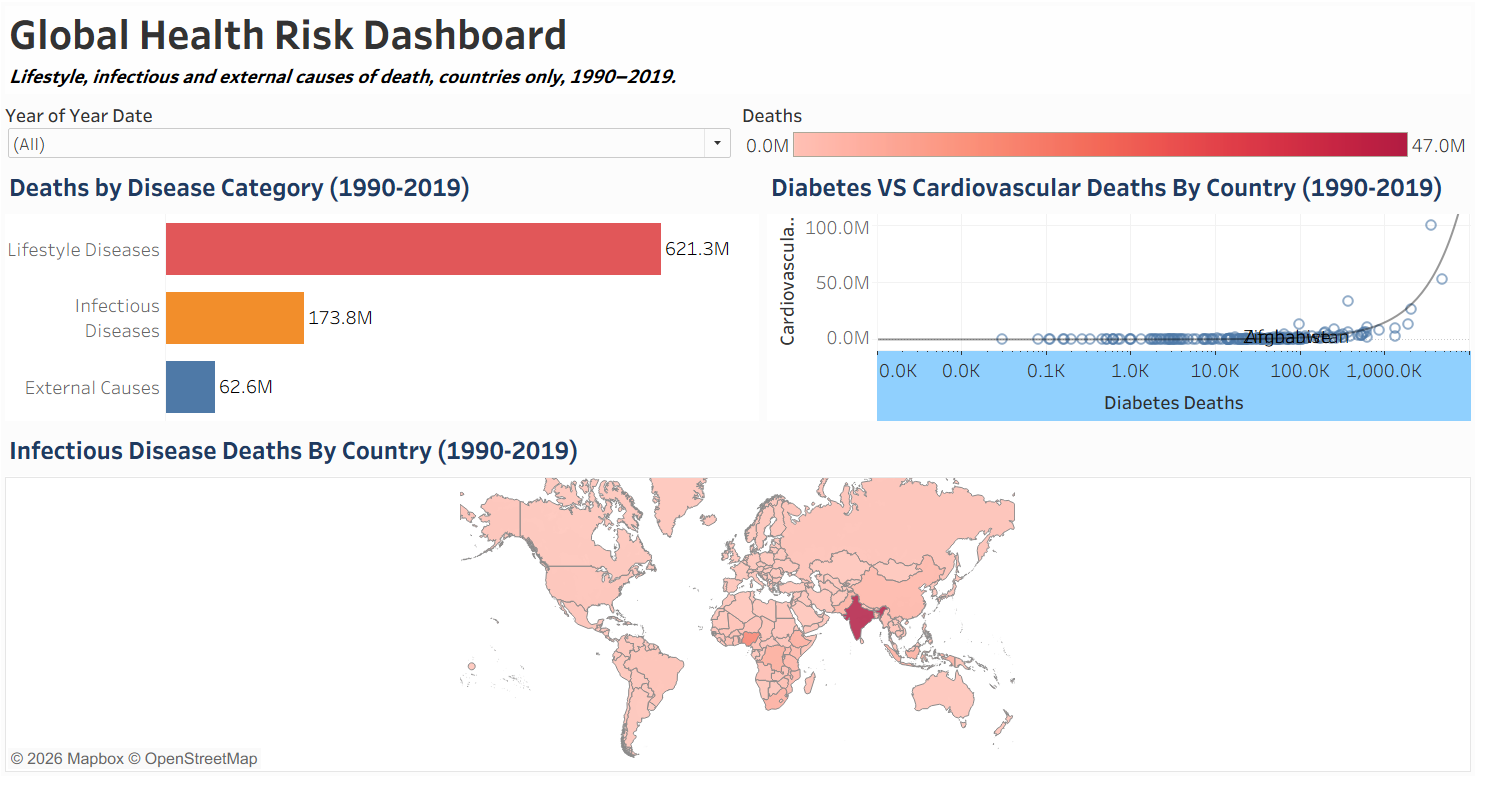

Layout of this report page (visuals, bound fields, positions):
{"tool":"tableau","page":{"name":"Global Health Risk Dashboard","canvas":[1500,800],"ordinal":1},"visuals":[{"type":"title","box":[13,13,1474,96]},{"type":"filter","title":"Diabetes VS Cardiovascular","param":"[federated.11086hz0ax1jhq1e8ujbg08lxq0k].[yr:Calculation_0750476188205057:ok]","box":[13,109,737,64]},{"type":"legend","title":"Infectious Disease Map","param":"[federated.11086hz0ax1jhq1e8ujbg08lxq0k].[sum:Pivot Field Values:qk]","box":[750,109,737,64]},{"type":"worksheet","title":"Category Comparison","mark":"Bar","rows":["Calculation_0750477005631497"],"cols":["Pivot Field Values"],"box":[13,173,762,263]},{"type":"worksheet","title":"Diabetes VS Cardiovascular","mark":"Automatic","rows":["Calculation_0750477011718155"],"cols":["Calculation_0750477011427338"],"box":[775,173,712,263]},{"type":"worksheet","title":"Infectious Disease Map","mark":"Multipolygon","box":[13,436,1474,351]}]}

Visuals, with their boxes in screenshot pixels (x1, y1, x2, y2), scaled from the page's 1500x800 canvas onto the 1494x792 screenshot:
title: (13, 13, 1481, 108)
"Diabetes VS Cardiovascular" filter: (13, 108, 747, 171)
"Infectious Disease Map" legend: (747, 108, 1481, 171)
"Category Comparison" worksheet (Bar marks): (13, 171, 772, 432)
"Diabetes VS Cardiovascular" worksheet: (772, 171, 1481, 432)
"Infectious Disease Map" worksheet (Multipolygon marks): (13, 432, 1481, 779)
